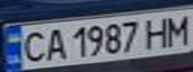1: (66, 24, 87, 58)
7: (118, 18, 145, 53)
8: (103, 20, 127, 55)
9: (84, 23, 106, 57)
A: (42, 25, 69, 61)
C: (15, 28, 48, 64)
H: (142, 15, 175, 49)
M: (160, 11, 193, 46)
